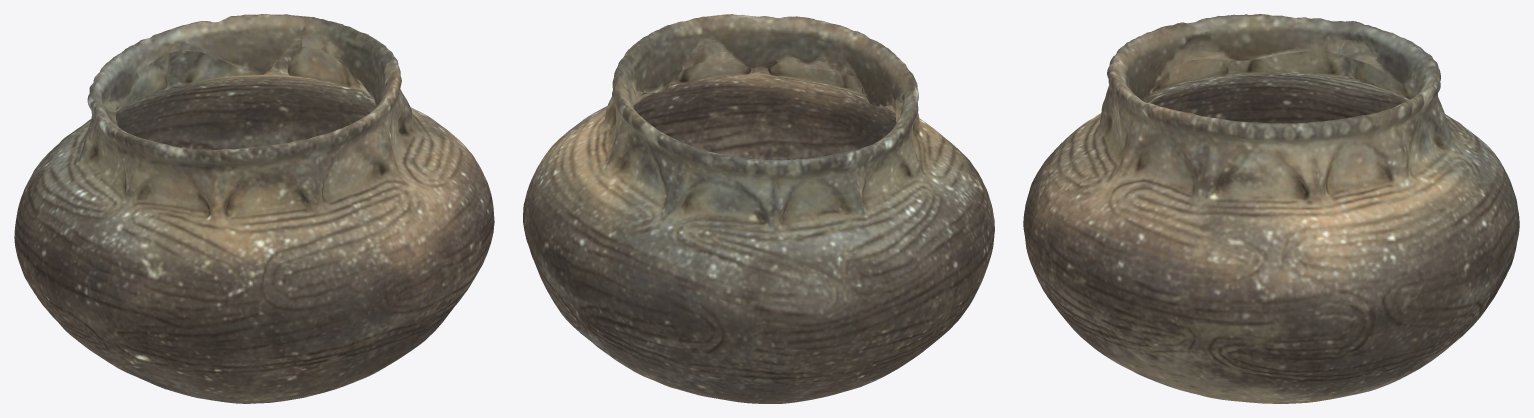
The model's file is Ark_HM_393_HI.glb.
3 renders of one model, left to right at view 1: azimuth 30°, elevation 25°; view 2: azimuth 150°, elevation 25°; view 3: azimuth 270°, elevation 25°, orthographic. The views are drawn at different scales.
Bounding box in the file's own units: 0.4985 × 0.343 × 0.4899.
1 material, 1 textured.
